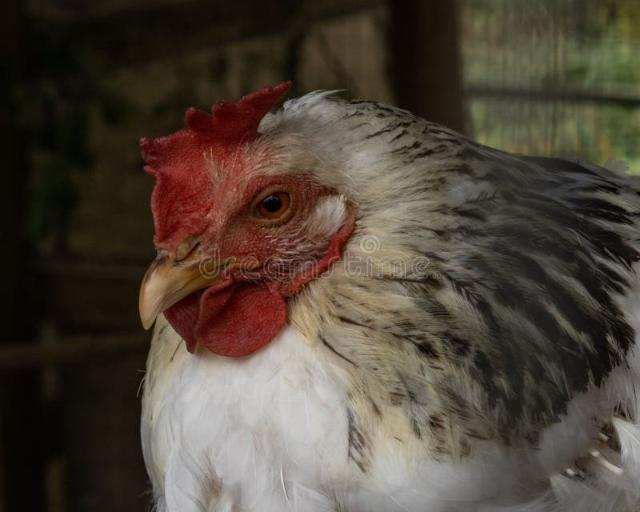Chicken: (136, 82, 640, 512)
